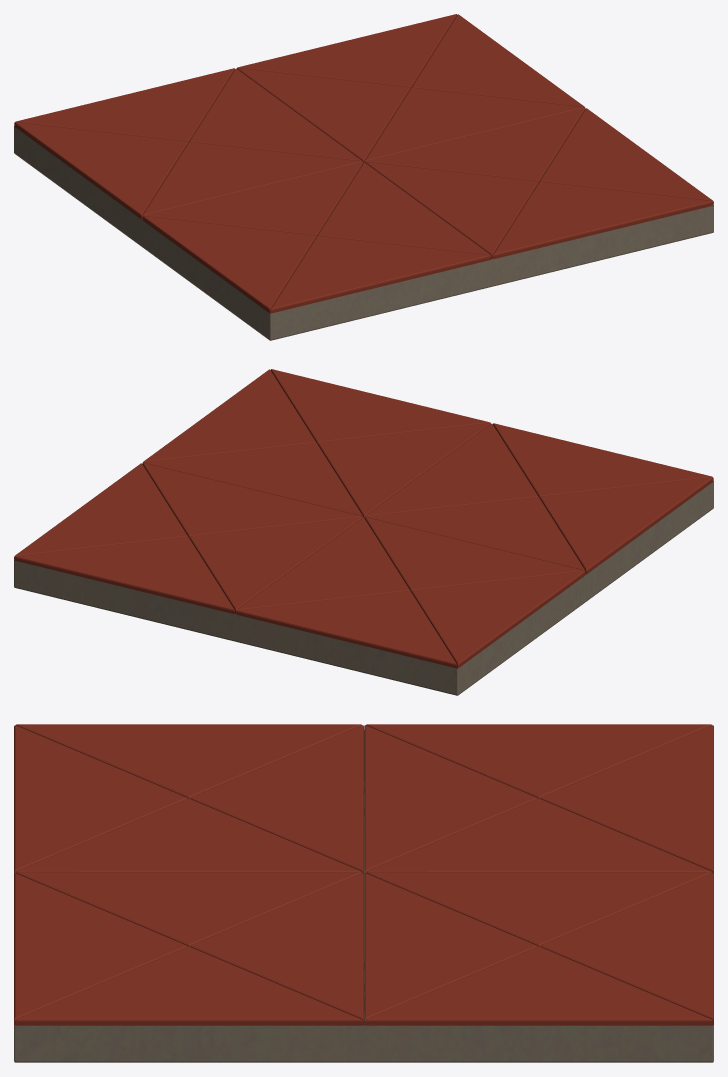
Rendered from SK5 CEILING SMALL.fbx.
3 renders of one model, top to bottom at view 1: azimuth 30°, elevation 25°; view 2: azimuth 150°, elevation 25°; view 3: azimuth 270°, elevation 25°, orthographic. The views are drawn at different scales.
Parts seen in each view (by area): view 1: SK5 CEILING SMALL; view 2: SK5 CEILING SMALL; view 3: SK5 CEILING SMALL.
Boxes of the visible parts, bbox=[...] form: SK5 CEILING SMALL: bbox=[14, 14, 713, 340]; SK5 CEILING SMALL: bbox=[14, 369, 713, 695]; SK5 CEILING SMALL: bbox=[14, 724, 713, 1062].
Bounding box in the file's own units: 200 × 15.5 × 200.
